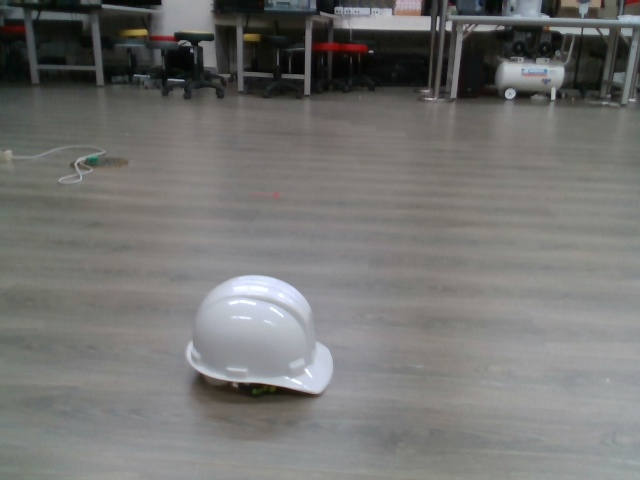helmet: (185, 272, 338, 400)
